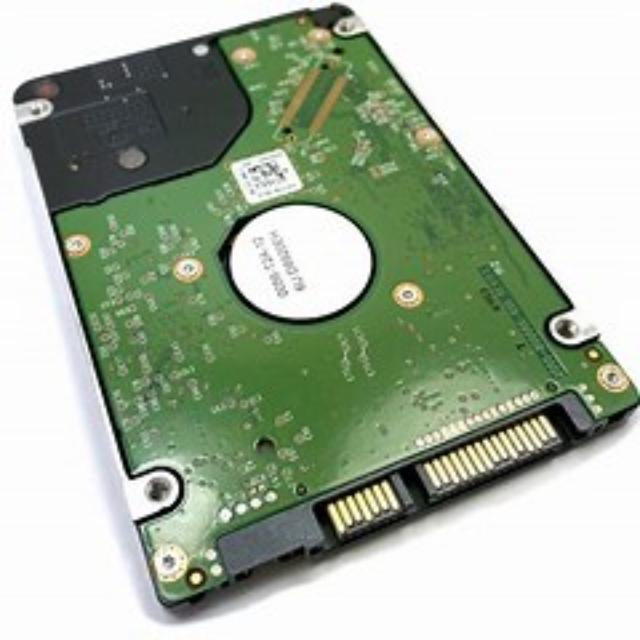HDD: (13, 5, 640, 616)
